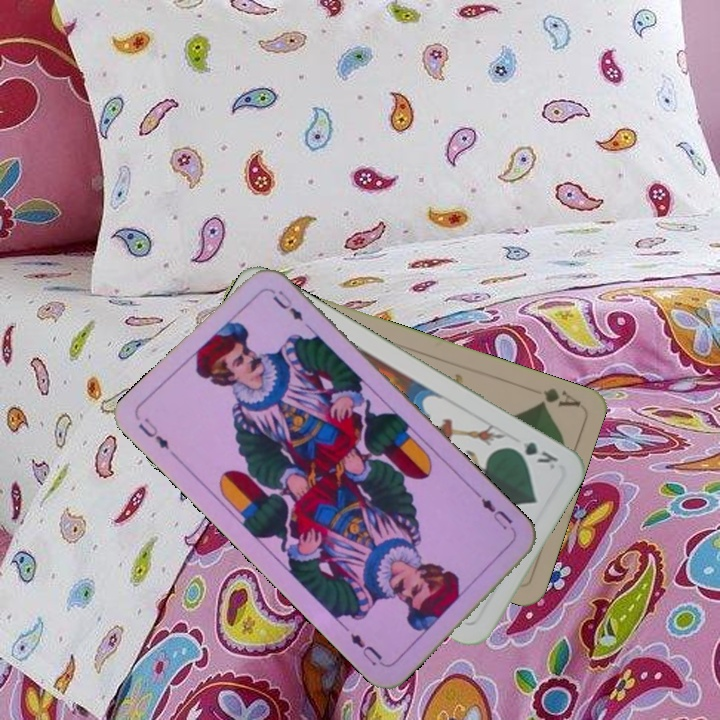EU: (473, 489, 519, 536), (134, 413, 172, 452)
GA: (535, 383, 582, 410)
GK: (504, 437, 561, 473)
